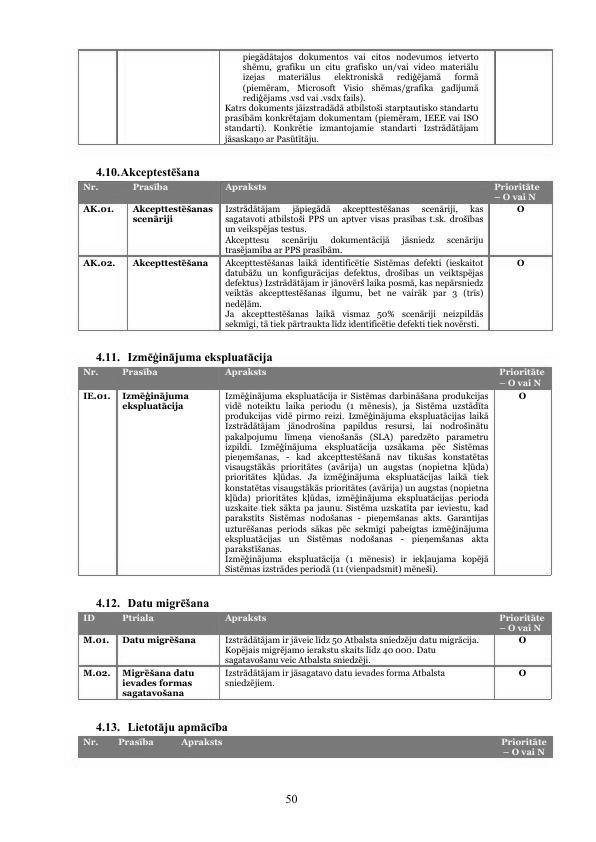table: (74, 365, 557, 582), (74, 180, 560, 335), (73, 44, 560, 147), (75, 608, 554, 704), (74, 734, 563, 763)
text: (93, 350, 274, 363), (92, 596, 214, 608), (92, 165, 201, 178), (92, 720, 227, 730)
